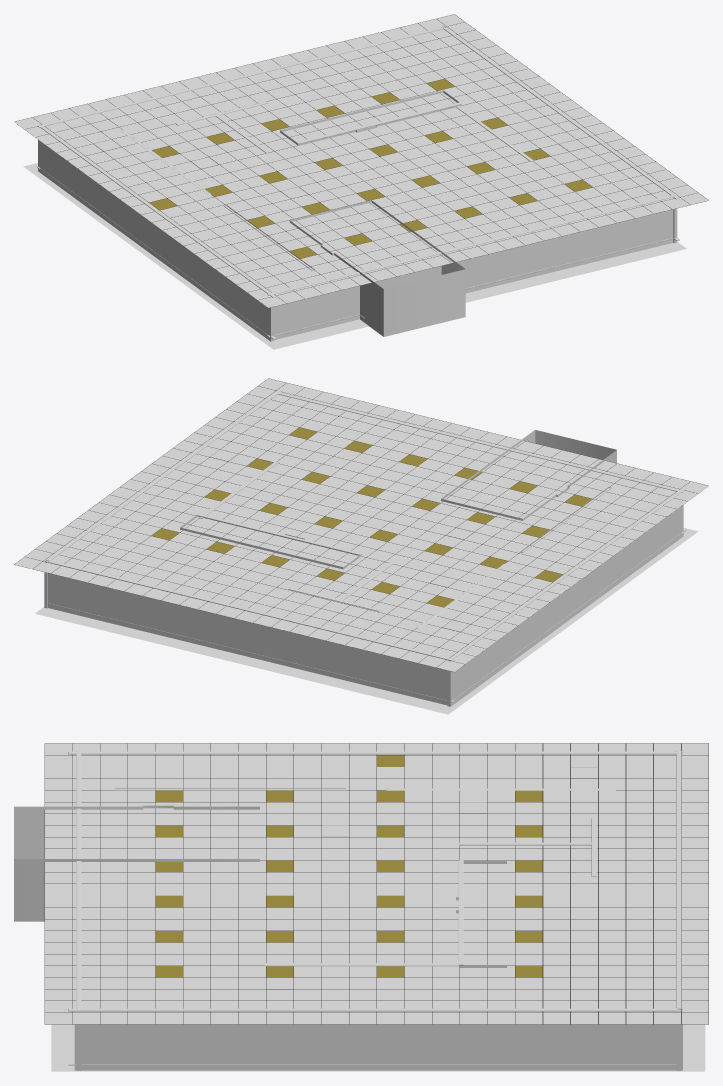
The model's file is Sketchfab_2022_04_30_13_07_42.fbx.
3 views of the same model, one above another, from view 1: azimuth 30°, elevation 25°; view 2: azimuth 150°, elevation 25°; view 3: azimuth 270°, elevation 25° (orthographic). The views are drawn at different scales.
Visible parts, largest first — view 1: Ceiling, BackWall_Double_BR.028, Air_Vent.005, Piece1, Carpet_v1.001; view 2: Ceiling, BackWall_Double_BR.028, Air_Vent.005, Carpet_v1.001, Piece1; view 3: Ceiling, BackWall_Double_BR.028, Air_Vent.005, Piece1, Carpet_v1.001.
Part boxes in pixels (x1,y1,x2,y2): Ceiling: (14,14,708,307); BackWall_Double_BR.028: (37,26,679,341); Air_Vent.005: (15,14,708,307); Piece1: (289,200,465,336); Carpet_v1.001: (23,163,686,349); Ceiling: (14,378,708,671); BackWall_Double_BR.028: (44,389,686,706); Air_Vent.005: (14,378,708,672); Carpet_v1.001: (35,528,698,714); Piece1: (441,430,616,520); Ceiling: (45,743,708,1024); BackWall_Double_BR.028: (68,751,682,1070); Air_Vent.005: (44,743,708,1024); Piece1: (14,805,259,921); Carpet_v1.001: (51,1024,705,1071).
Size of the model in its own units: 2189 by 230 by 2290.
